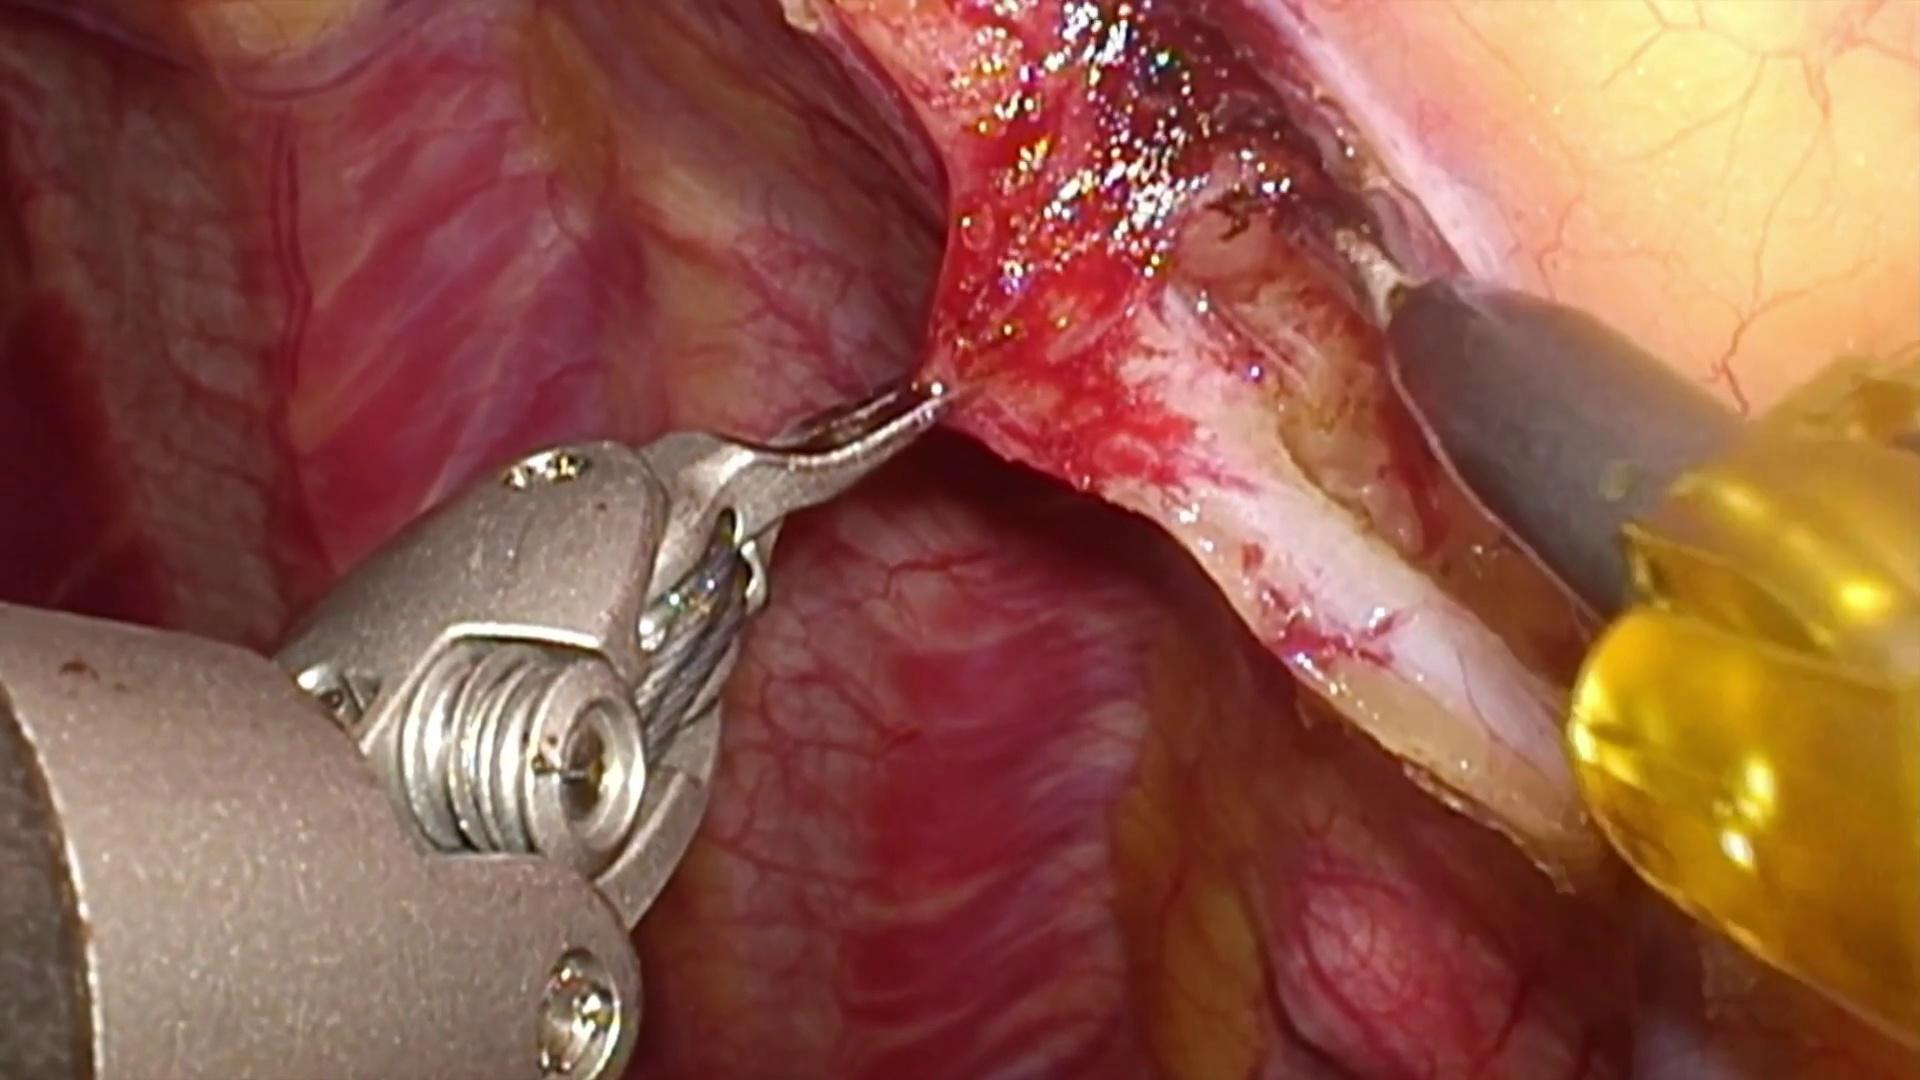Cautery_Spatula: (1262, 185, 1753, 634)
Debakey: (647, 339, 959, 607)
